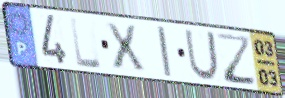4: (40, 13, 69, 67)
I: (155, 24, 174, 78)
L: (68, 16, 104, 71)
U: (183, 28, 221, 83)
X: (103, 21, 148, 73)
Z: (214, 32, 259, 88)
